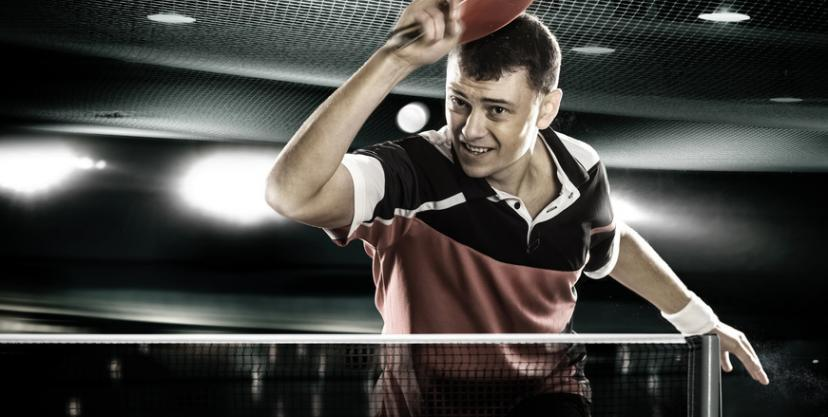ball_pingpong: (396, 104, 428, 134)
